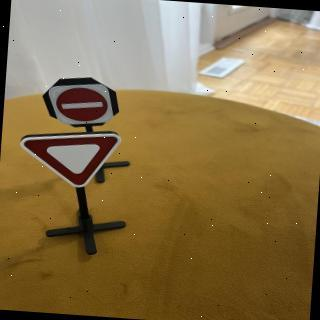sign_noentry: (46, 80, 118, 130)
sign_yield: (17, 126, 124, 192)
